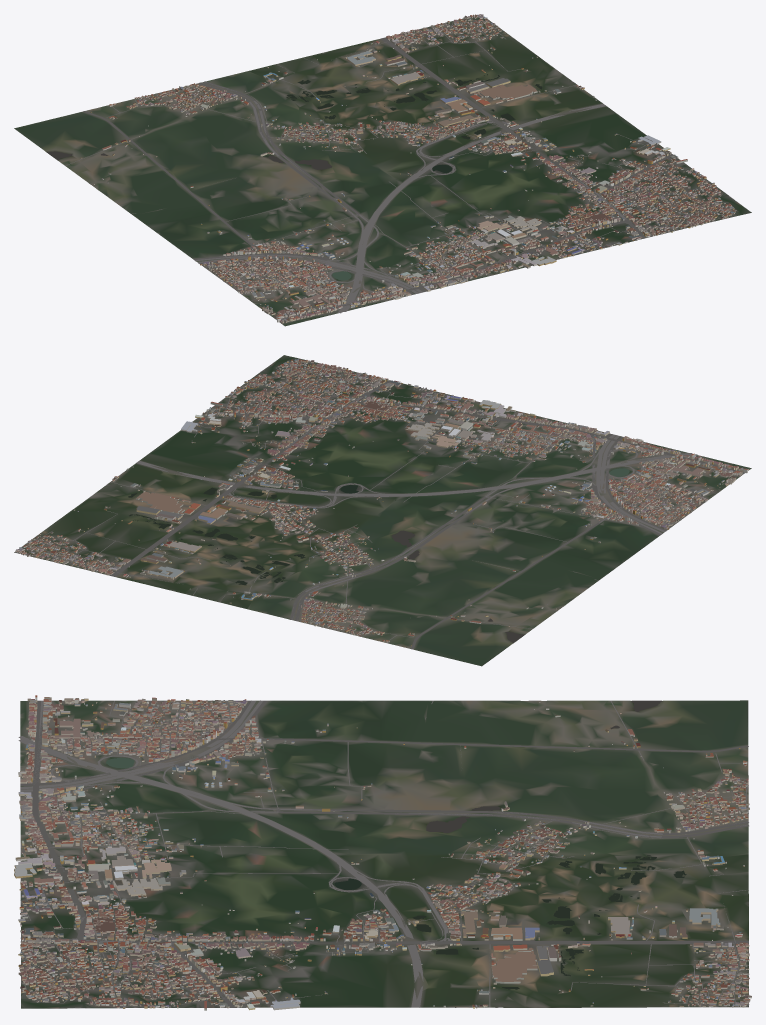
The picture shows the model from 3 angles, top to bottom: view 1: azimuth 30°, elevation 25°; view 2: azimuth 150°, elevation 25°; view 3: azimuth 270°, elevation 25°; orthographic projection. The views are drawn at different scales.
Parts seen in each view (by area): view 1: ground, buildings, roads, water; view 2: ground, buildings, roads, water; view 3: ground, buildings, roads, water.
Boxes of the visible parts, bbox=[...] form: ground: bbox=[14, 14, 751, 326]; buildings: bbox=[81, 14, 736, 323]; roads: bbox=[65, 18, 734, 319]; water: bbox=[47, 74, 542, 280]; ground: bbox=[14, 355, 751, 666]; buildings: bbox=[15, 359, 749, 645]; roads: bbox=[16, 362, 744, 649]; water: bbox=[128, 468, 629, 642]; ground: bbox=[20, 700, 748, 1008]; buildings: bbox=[14, 695, 751, 1010]; roads: bbox=[18, 700, 749, 1008]; water: bbox=[106, 700, 686, 989].
Bounding box in the file's own units: 2831 × 33.48 × 2842.
